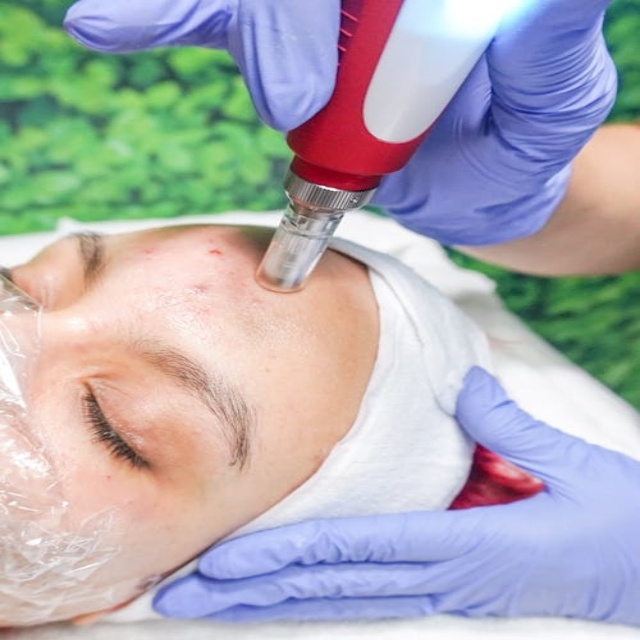Guantes: (59, 0, 625, 249), (159, 366, 639, 634)
Sin_gafas: (45, 339, 244, 483)
